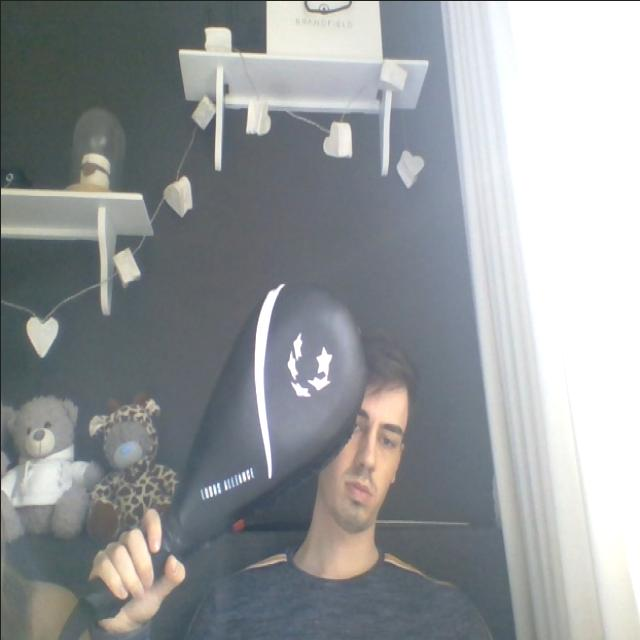paddle: (84, 278, 369, 622)
